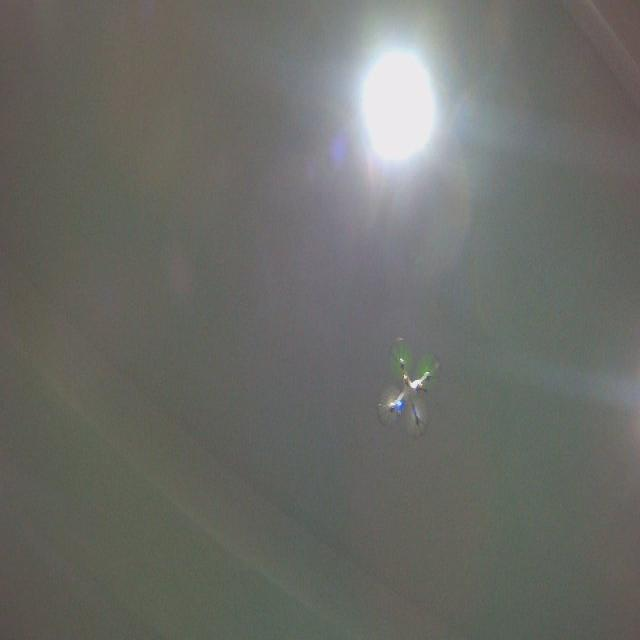drone: (372, 335, 445, 442)
